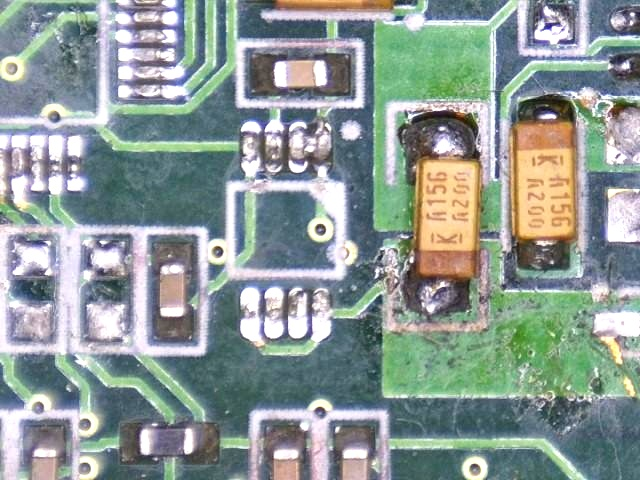pcb_defect: (288, 116, 332, 177)
